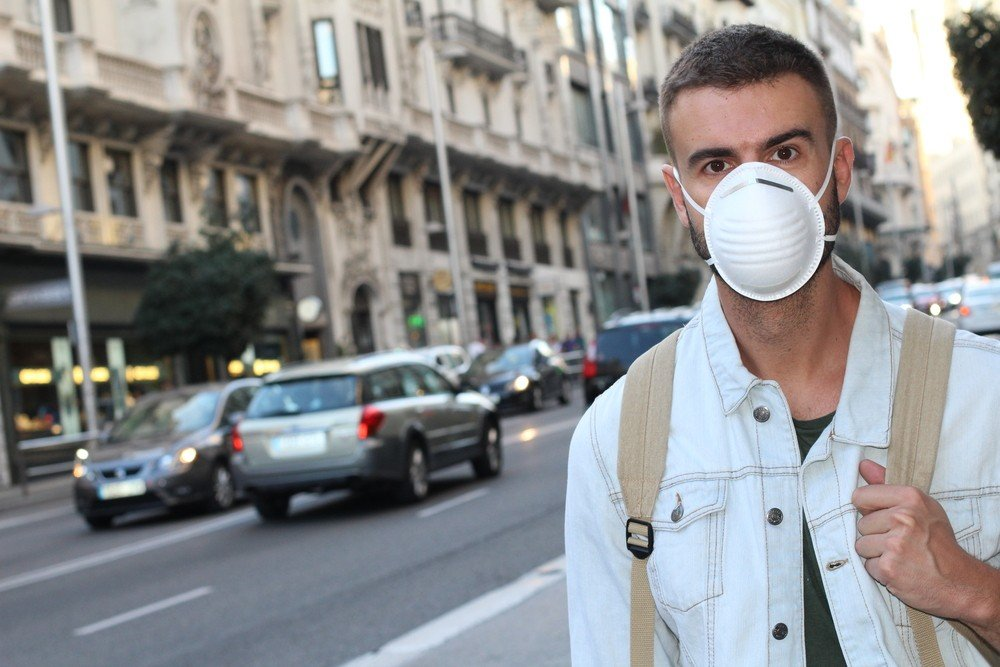with_mask: (664, 71, 854, 305)
